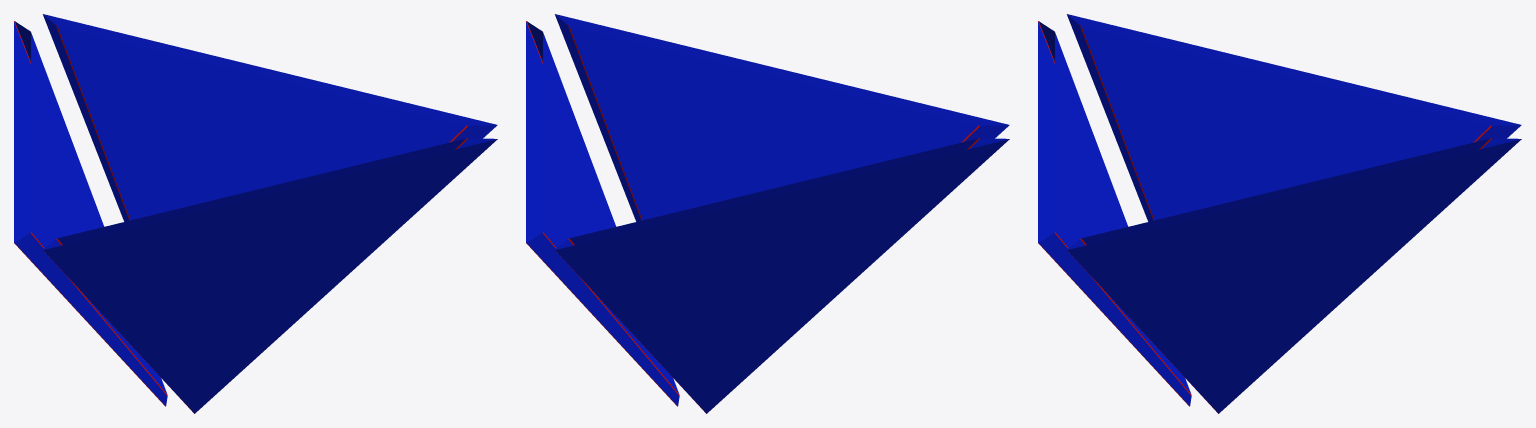
The model's file is L9_Triangle.fbx.
3 views of the same model, side by side, from view 1: azimuth 30°, elevation 25°; view 2: azimuth 150°, elevation 25°; view 3: azimuth 270°, elevation 25° (orthographic).
Parts seen in each view (by area): view 1: L9_Triangle; view 2: L9_Triangle; view 3: L9_Triangle.
Boxes of the visible parts, <box> form: L9_Triangle: <box>14,14,497,413</box>; L9_Triangle: <box>526,14,1009,413</box>; L9_Triangle: <box>1038,14,1521,413</box>.
Size of the model in its own units: 3268 by 1774 by 2830.
